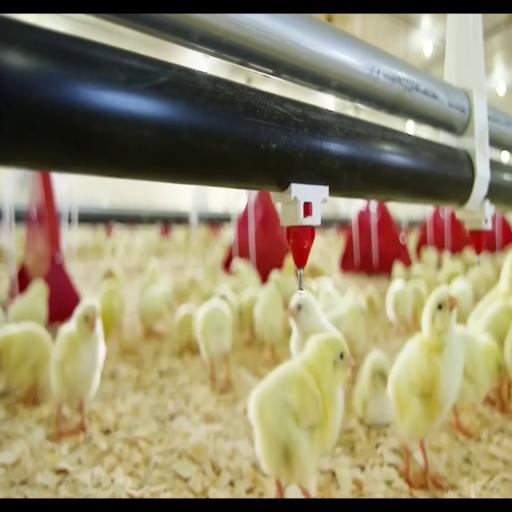chick: (248, 333, 353, 498), (387, 285, 463, 488), (50, 298, 106, 438), (453, 325, 506, 437), (0, 322, 52, 405), (195, 297, 233, 388), (288, 290, 338, 358), (468, 253, 511, 325), (352, 349, 392, 426), (254, 277, 286, 363), (326, 296, 367, 362), (139, 259, 172, 337), (468, 299, 511, 348), (7, 279, 49, 326), (99, 270, 125, 341), (292, 276, 343, 312), (385, 279, 413, 333), (215, 284, 239, 340), (450, 275, 474, 323), (174, 303, 196, 354), (407, 278, 429, 329), (499, 324, 511, 411), (269, 269, 297, 306), (230, 258, 261, 289), (240, 287, 258, 340), (439, 252, 465, 284), (466, 266, 488, 303), (411, 263, 439, 292), (343, 286, 367, 313), (364, 284, 381, 315), (419, 246, 440, 269), (391, 260, 409, 280), (282, 252, 296, 276), (461, 246, 476, 268), (0, 307, 7, 326)
